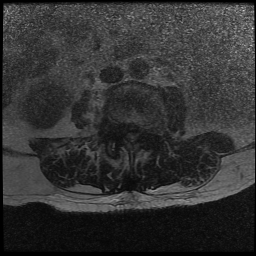CCS_severe_stenosis: (130, 127, 135, 149)
LFS_severe_stenosis: (142, 123, 148, 143)
LLS_severe_stenosis: (135, 127, 141, 144)
RFS_severe_stenosis: (118, 123, 124, 143)
RLS_severe_stenosis: (124, 125, 130, 144)
